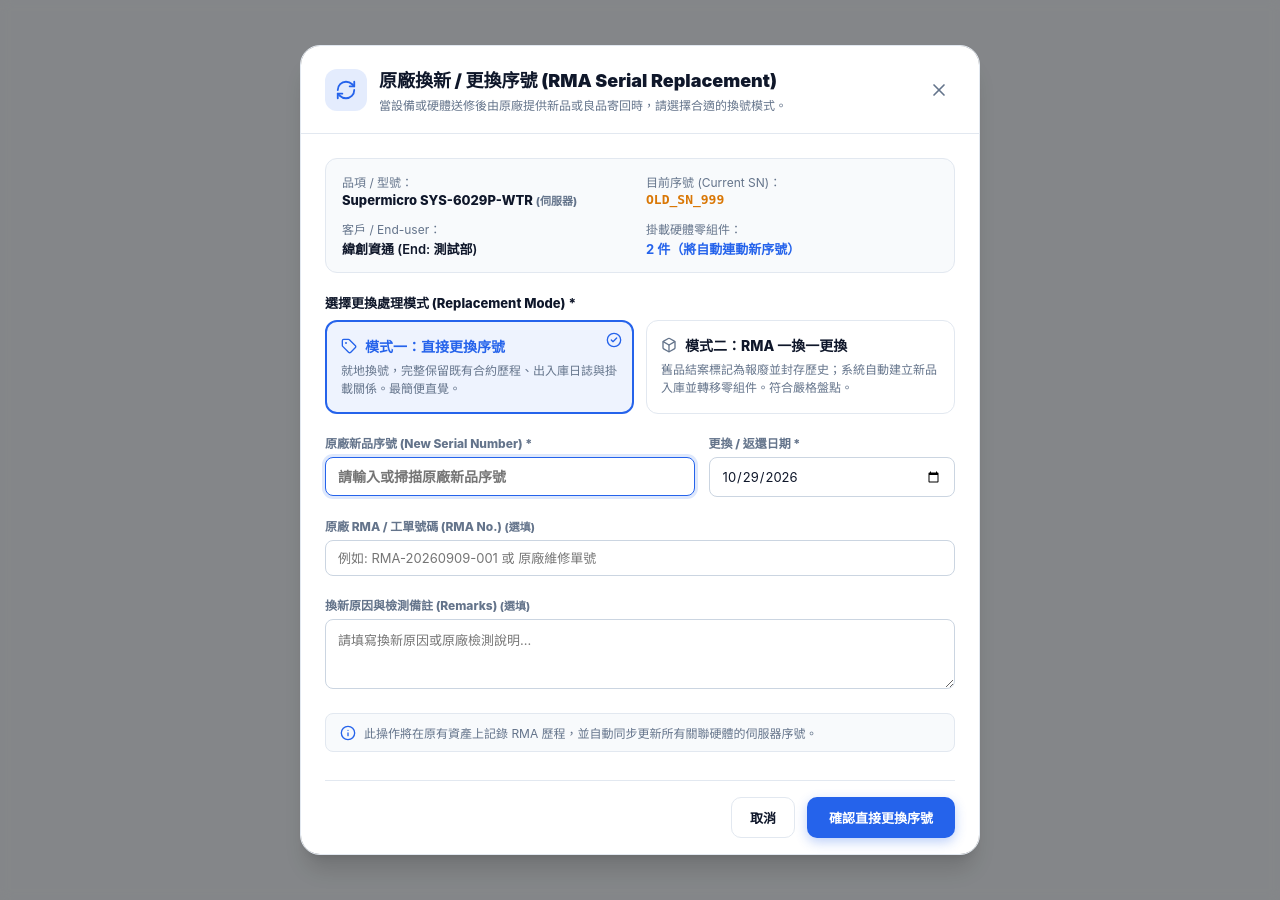
RmaReplacementModal 彈窗整合測試 › 若輸入的新序號與舊序號相同，應顯示警告阻擋送出
The width and height of the screenshot is (1280, 900).
Type "OLD_SN_999" into the field with placeholder "請輸入或掃描原廠新品序號".
click(510, 476); type("OLD_SN_999")  # box [325,457,695,496]
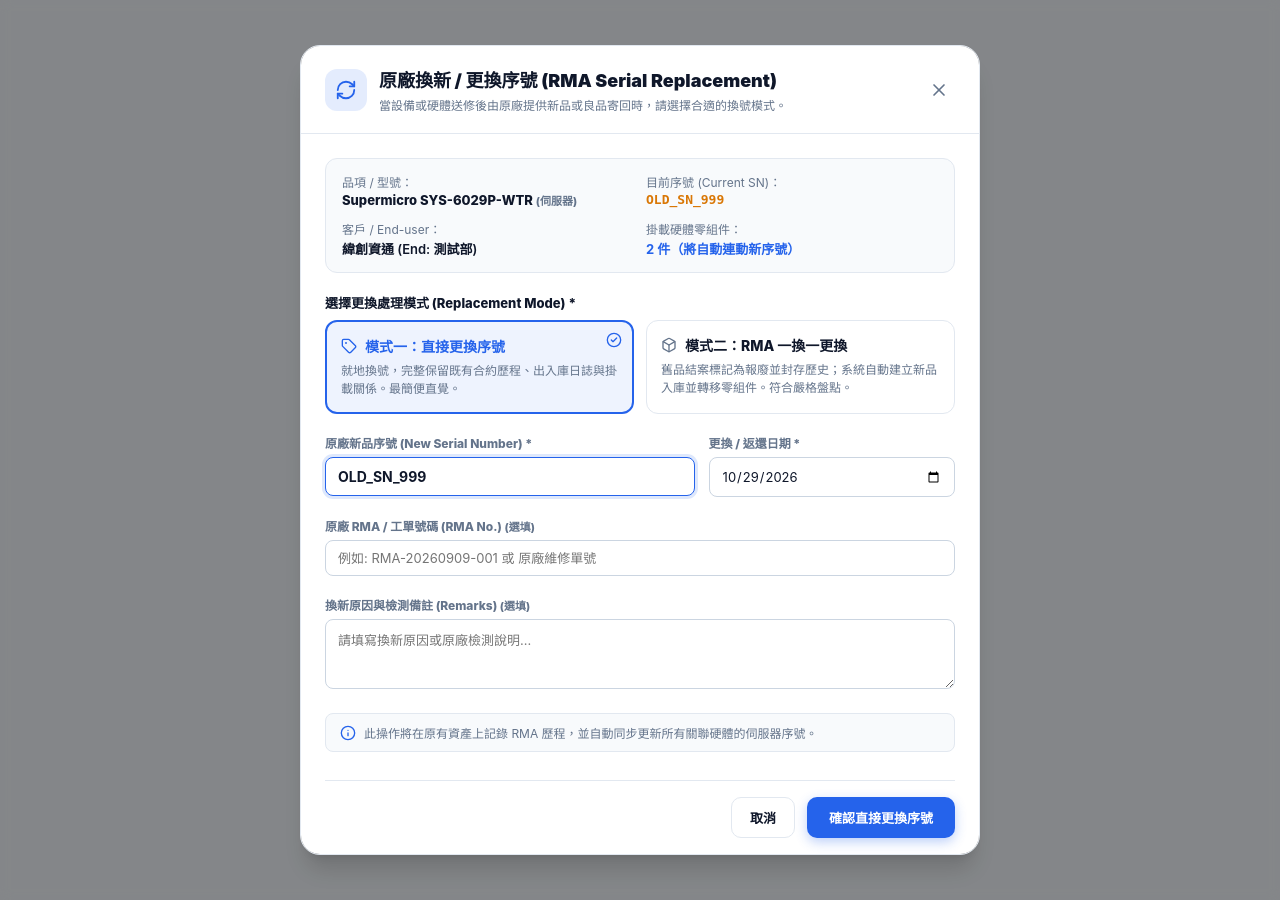
Click the button "確認直接更換序號".
click(881, 818)  # box [807,797,955,838]
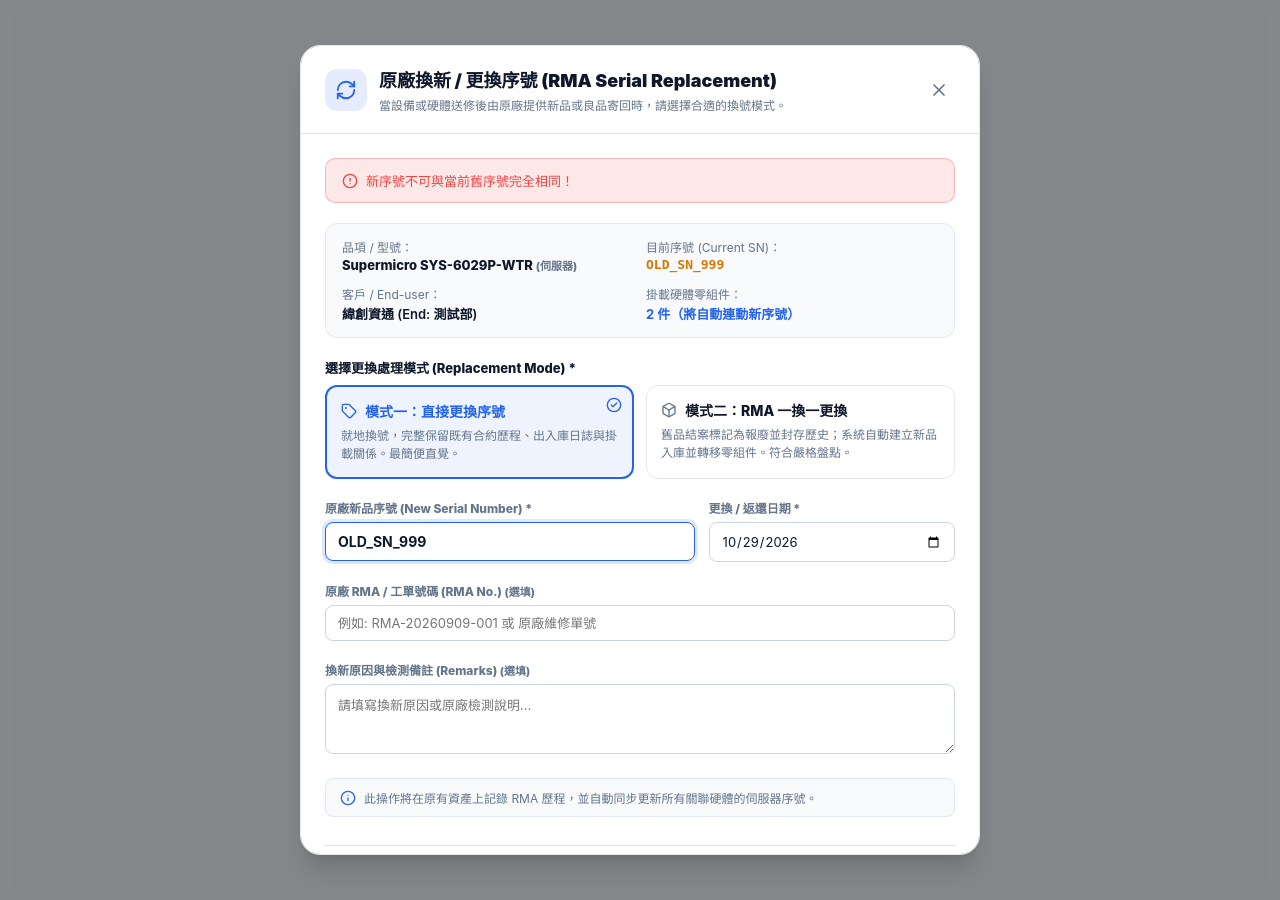
Now the text "新序號不可與當前舊序號完全相同！" is shown, box [366,171,574,190]
